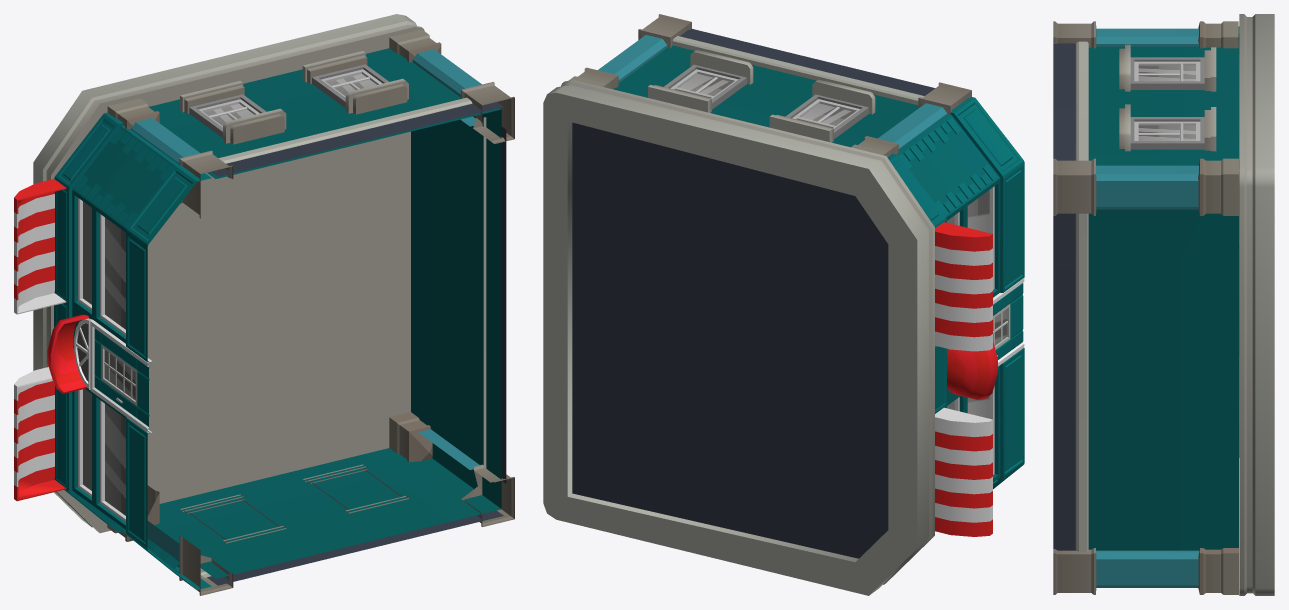
File: Building_3_1_A.fbx
3 renders of one model, left to right at view 1: azimuth 30°, elevation 25°; view 2: azimuth 150°, elevation 25°; view 3: azimuth 270°, elevation 25°, orthographic.
Visible parts, largest first — view 1: Building 3_1_A; view 2: Building 3_1_A; view 3: Building 3_1_A.
Boxes of the visible parts, x1,y1,x2,y2 form: Building 3_1_A: (14,14,514,595); Building 3_1_A: (543,14,1024,595); Building 3_1_A: (1053,14,1274,595).
Size of the model in its own units: 820 by 812 by 373.
